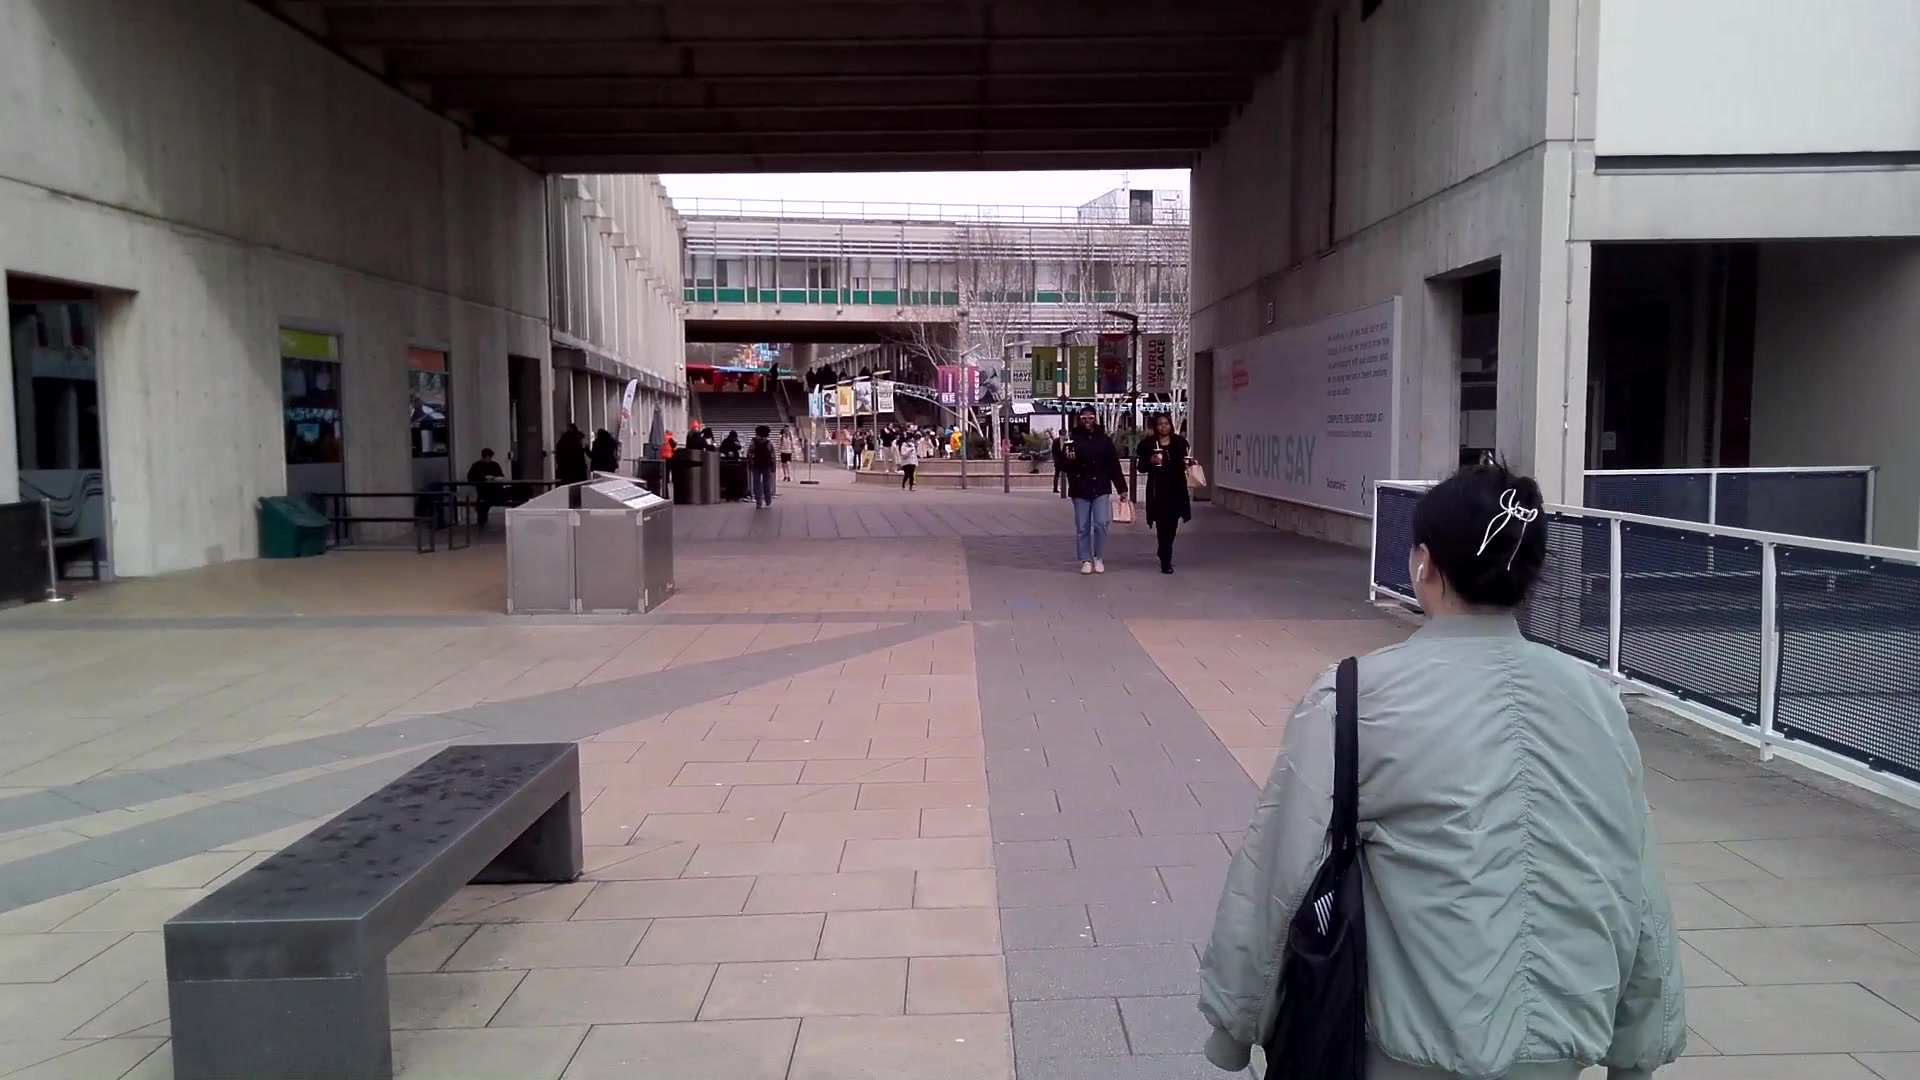Backpack: (1270, 843, 1373, 1080)
Bench: (180, 742, 590, 1078)
Bin: (582, 467, 676, 613), (509, 475, 577, 613)
Person: (1350, 442, 1657, 1080), (1064, 401, 1122, 575), (1146, 411, 1188, 577), (748, 422, 777, 513)
